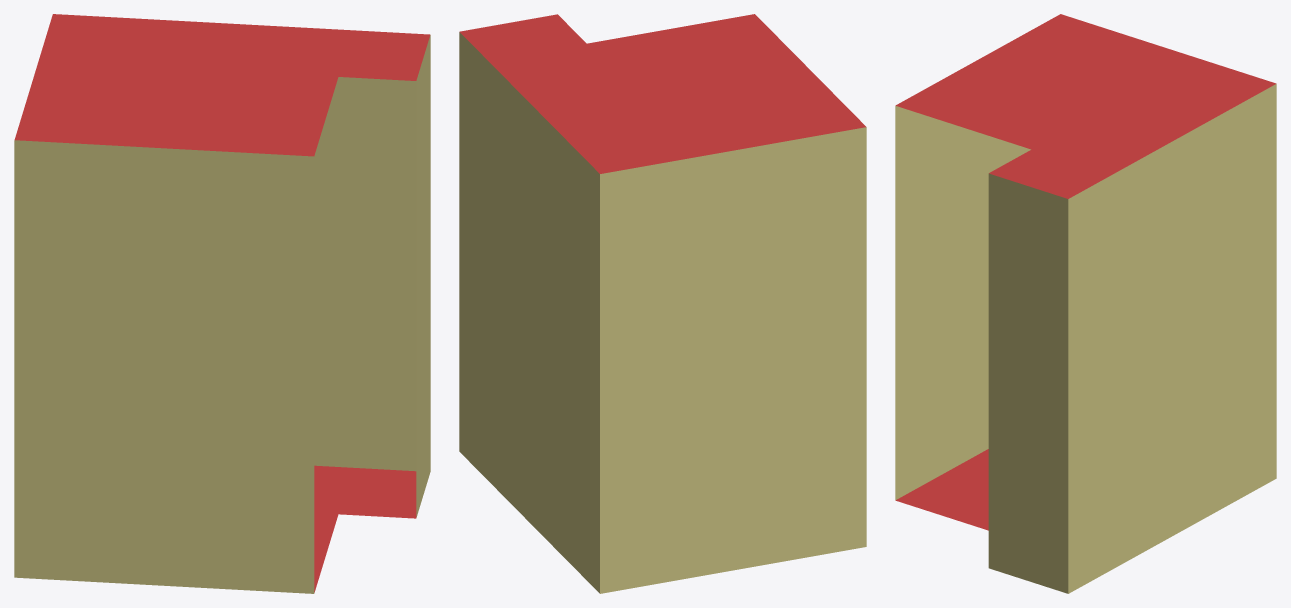
3 views of the same model, side by side, from view 1: azimuth 30°, elevation 25°; view 2: azimuth 150°, elevation 25°; view 3: azimuth 270°, elevation 25° (orthographic). The views are drawn at different scales.
Parts seen in each view (by area): view 1: group_4, group_3, group_5; view 2: group_4, group_3; view 3: group_4, group_3, group_5.
Boxes of the visible parts, x1=… form: group_4: x1=14, y1=35, x2=430, y2=593; group_3: x1=14, y1=14, x2=430, y2=156; group_5: x1=314, y1=465, x2=416, y2=592; group_4: x1=459, y1=32, x2=866, y2=593; group_3: x1=459, y1=14, x2=865, y2=173; group_4: x1=895, y1=84, x2=1276, y2=593; group_3: x1=895, y1=14, x2=1276, y2=198; group_5: x1=895, y1=449, x2=988, y2=530.
Size of the model in its own units: 7.17 by 6.25 by 7.13.
